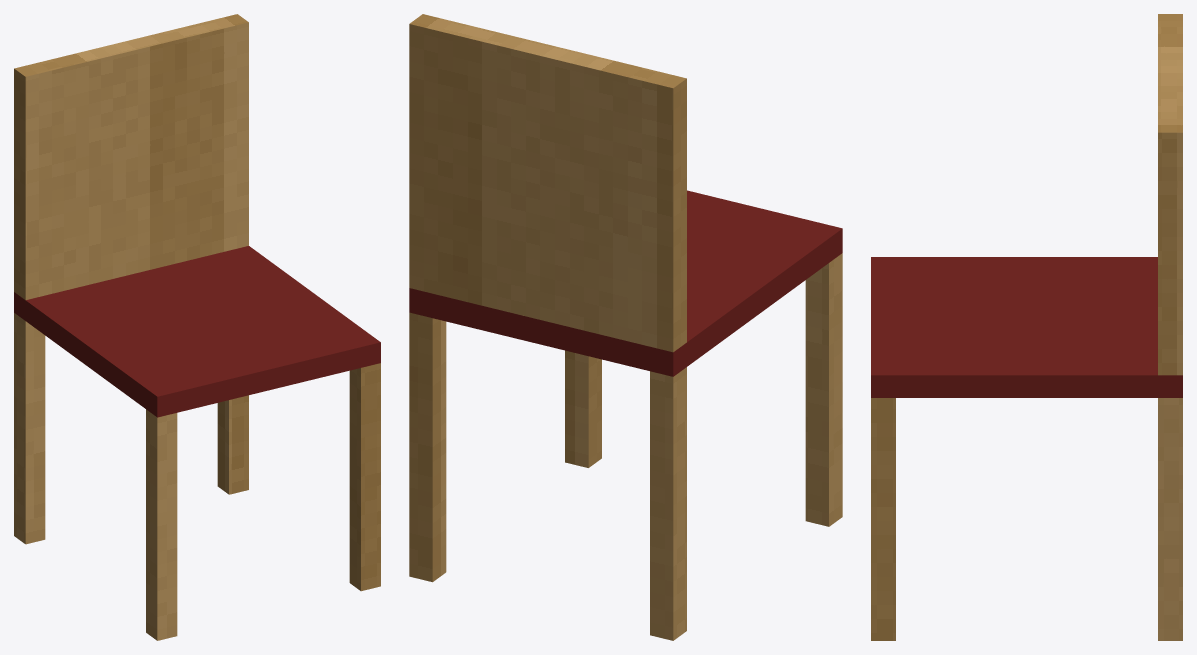
File: chair.obj
The picture shows the model from 3 angles, left to right: view 1: azimuth 30°, elevation 25°; view 2: azimuth 150°, elevation 25°; view 3: azimuth 270°, elevation 25°; orthographic projection. The views are drawn at different scales.
Visible parts, largest first — view 1: Back, Seat, Leg_FL, Leg_FR, Leg_BL, Leg_BR; view 2: Back, Seat, Leg_BR, Leg_BL, Leg_FL, Leg_FR; view 3: Seat, Back, Leg_BR, Leg_FR.
Boxes of the visible parts, x1,y1,x2,y2 form: Back: [14, 14, 248, 300]; Seat: [14, 246, 380, 417]; Leg_FL: [146, 409, 177, 640]; Leg_FR: [349, 363, 380, 591]; Leg_BL: [14, 313, 45, 544]; Leg_BR: [217, 395, 248, 494]; Back: [409, 14, 686, 352]; Seat: [409, 190, 842, 376]; Leg_BR: [409, 312, 446, 582]; Leg_BL: [650, 367, 686, 640]; Leg_FL: [805, 253, 842, 526]; Leg_FR: [565, 350, 601, 467]; Seat: [871, 257, 1182, 397]; Back: [1158, 14, 1182, 375]; Leg_BR: [1158, 398, 1182, 640]; Leg_FR: [871, 398, 895, 640].
Size of the model in its own units: 0.45 by 0.9 by 0.5.
Materials: 2 (1 with a texture image).
